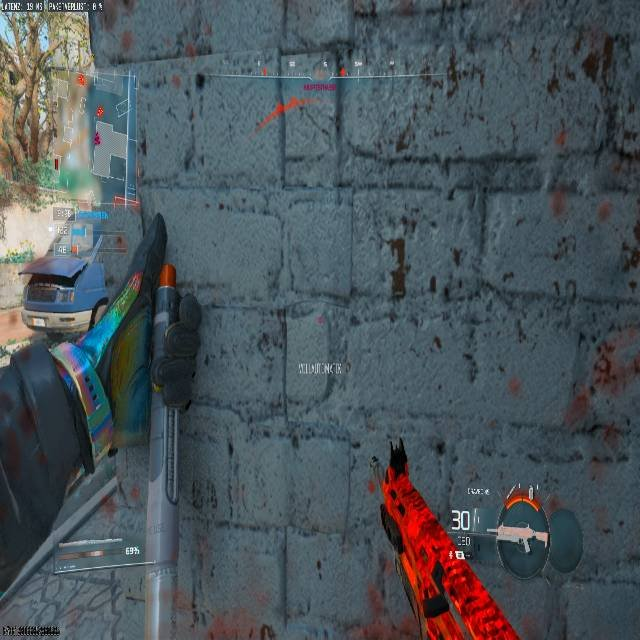head: (0, 258, 132, 626)
